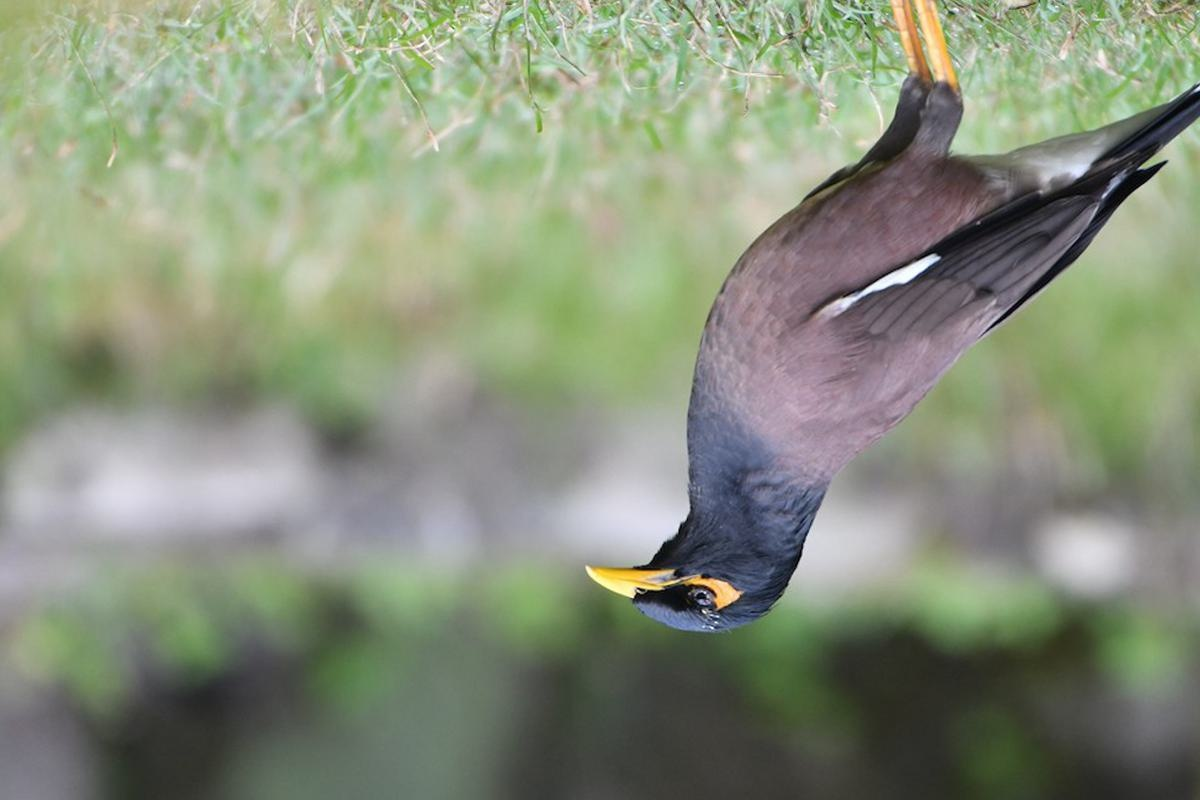myna: (574, 24, 1174, 650)
